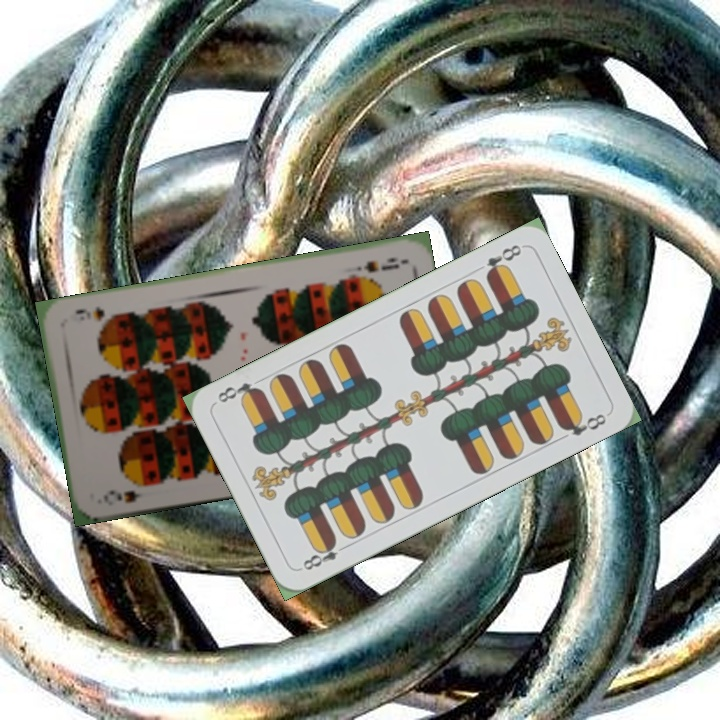E8: (298, 536, 351, 573), (481, 240, 524, 281)
S9: (348, 253, 401, 275), (99, 486, 146, 509)
